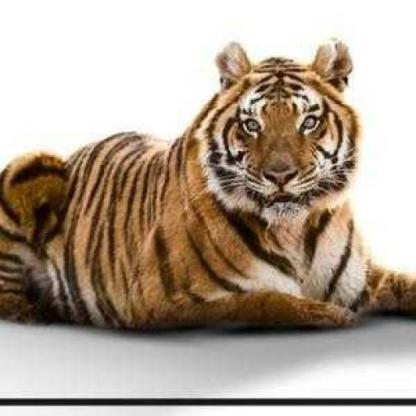Tiger: (0, 23, 415, 346)
